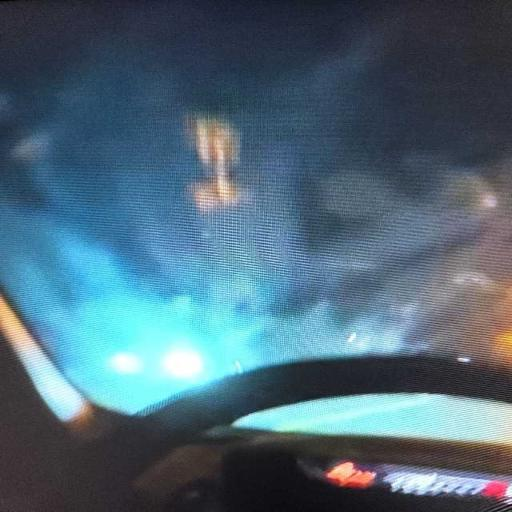car: (0, 2, 511, 511)
